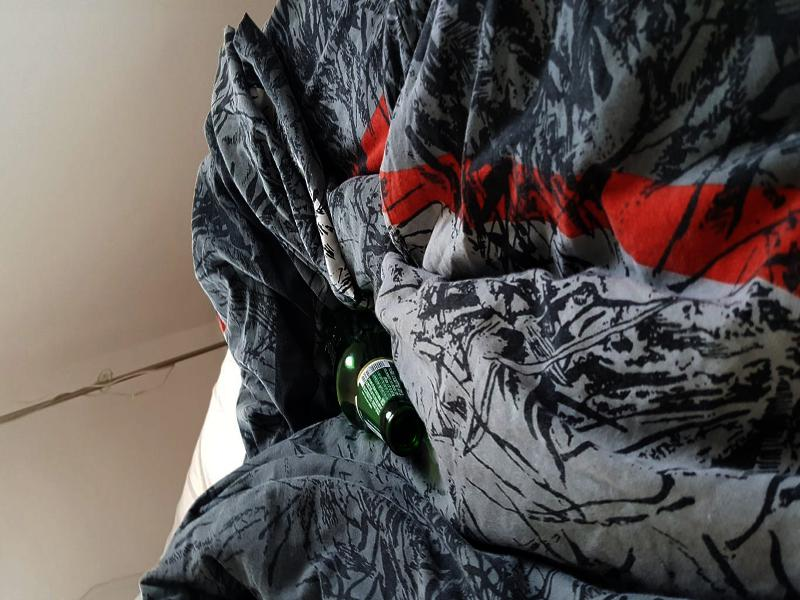Beer: (322, 302, 424, 457)
